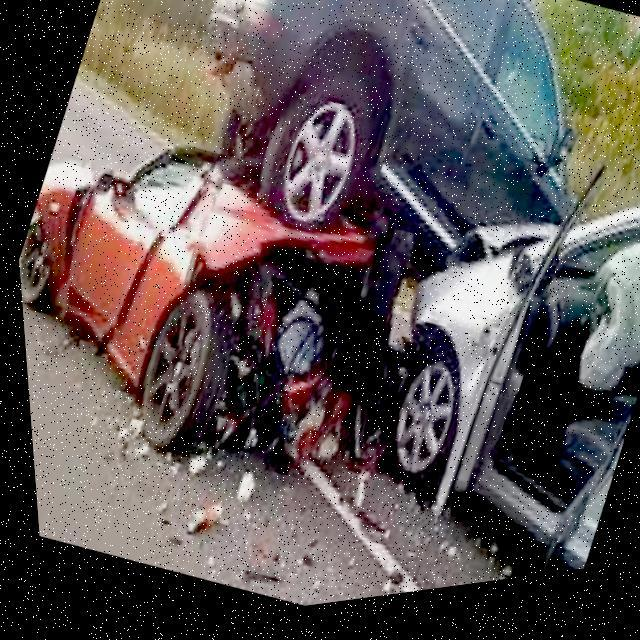Car Accident Detector - v4 Generation1 Exported: (5, 43, 482, 564), (133, 0, 634, 360)
